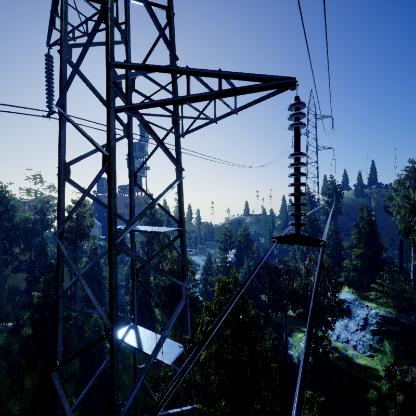insulator: (285, 99, 310, 234), (43, 53, 55, 114)
